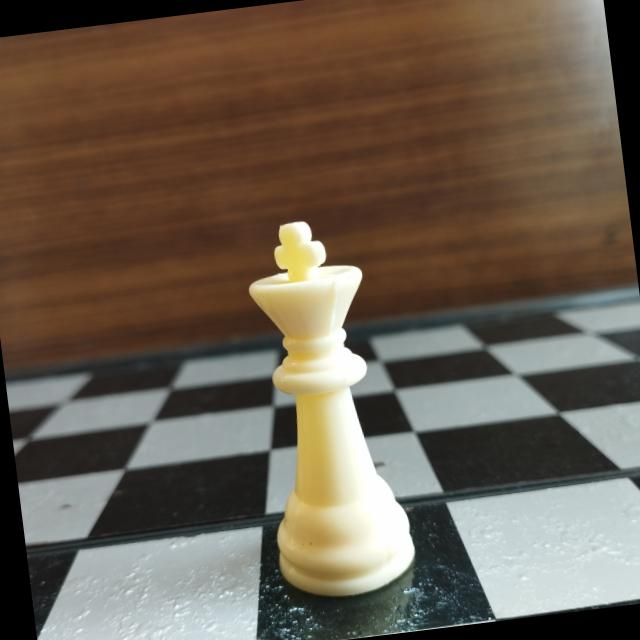White King: (231, 204, 428, 606)
